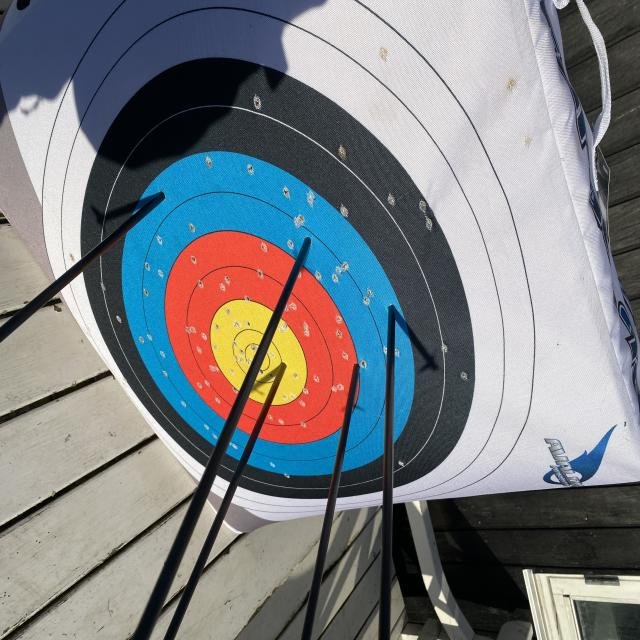Arrow_Blue: (130, 185, 184, 221), (378, 289, 409, 328), (287, 230, 325, 261)
Arrow_Red: (344, 346, 364, 389)
Arrow_Yellow: (268, 352, 302, 387)
